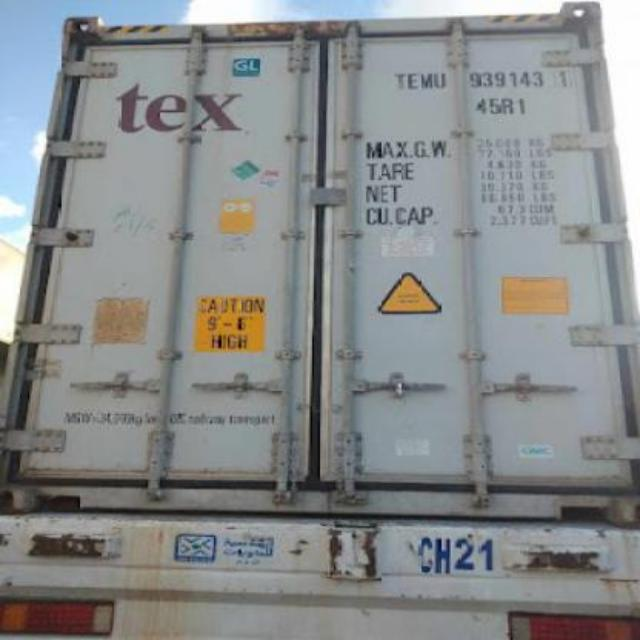1: (552, 68, 572, 88), (506, 64, 518, 90)
3: (530, 64, 546, 92), (481, 67, 494, 91)
4: (518, 62, 530, 92)
9: (464, 66, 482, 88), (492, 66, 506, 90)
E: (406, 67, 418, 93)
M: (418, 69, 434, 95)
T: (394, 70, 408, 92)
U: (432, 67, 448, 93)
